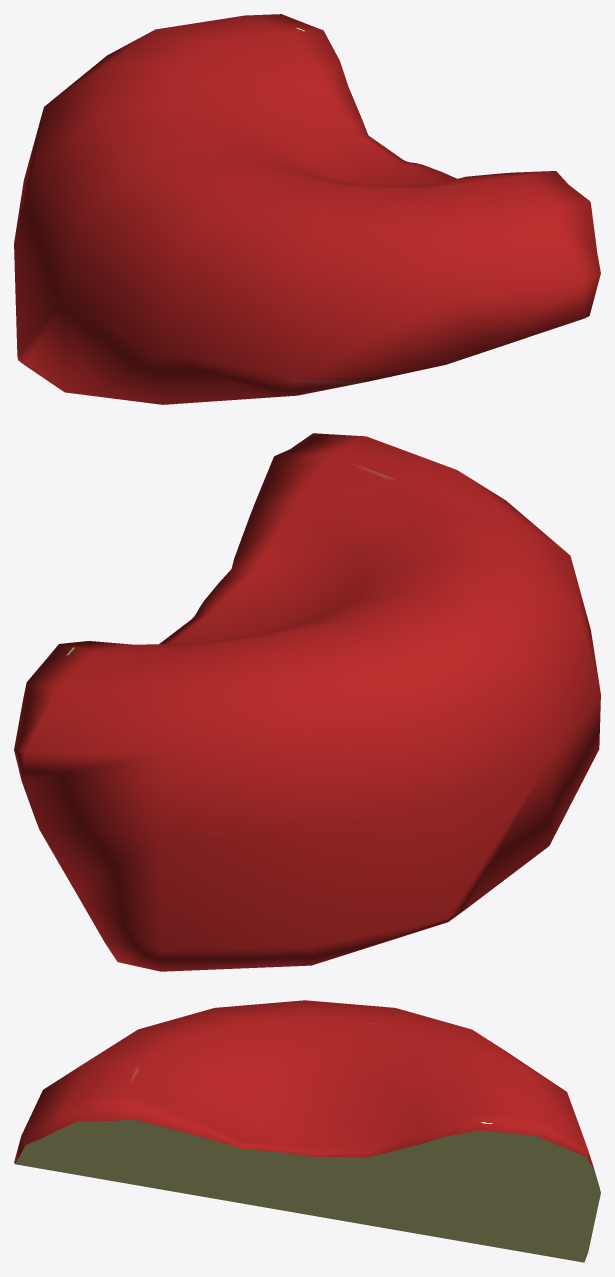
The model's file is hahen3.fbx.
3 views of the same model, one above another, from view 1: azimuth 30°, elevation 25°; view 2: azimuth 150°, elevation 25°; view 3: azimuth 270°, elevation 25° (orthographic). The views are drawn at different scales.
Parts seen in each view (by area): view 1: hahen02; view 2: hahen02; view 3: hahen02.
Boxes of the visible parts, x1,y1,x2,y2 form: hahen02: [14, 14, 600, 404]; hahen02: [14, 433, 600, 971]; hahen02: [14, 1000, 600, 1262].
Size of the model in its own units: 21.99 by 14.49 by 37.58.
